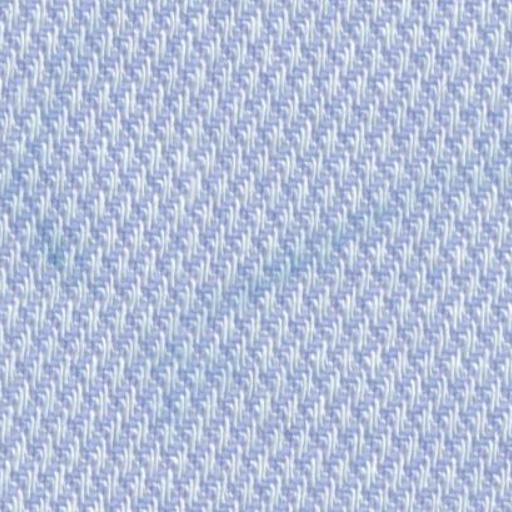WuZi: (218, 167, 392, 306), (8, 118, 104, 306), (126, 284, 236, 408)
